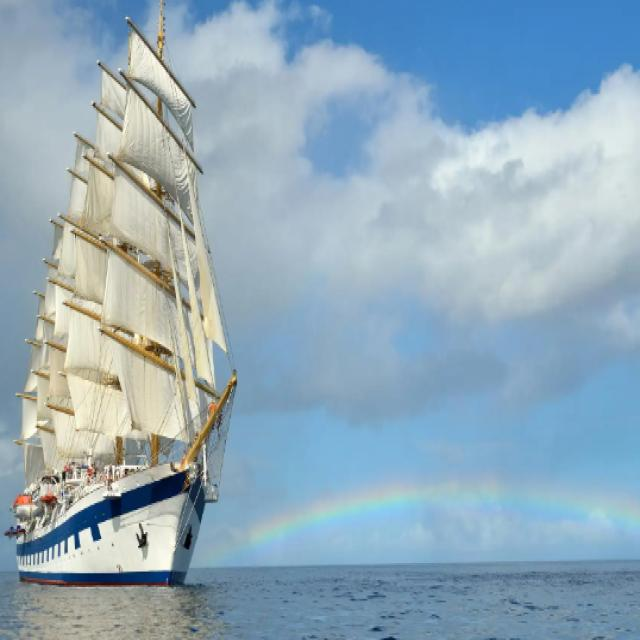houseboat: (0, 28, 227, 574)
